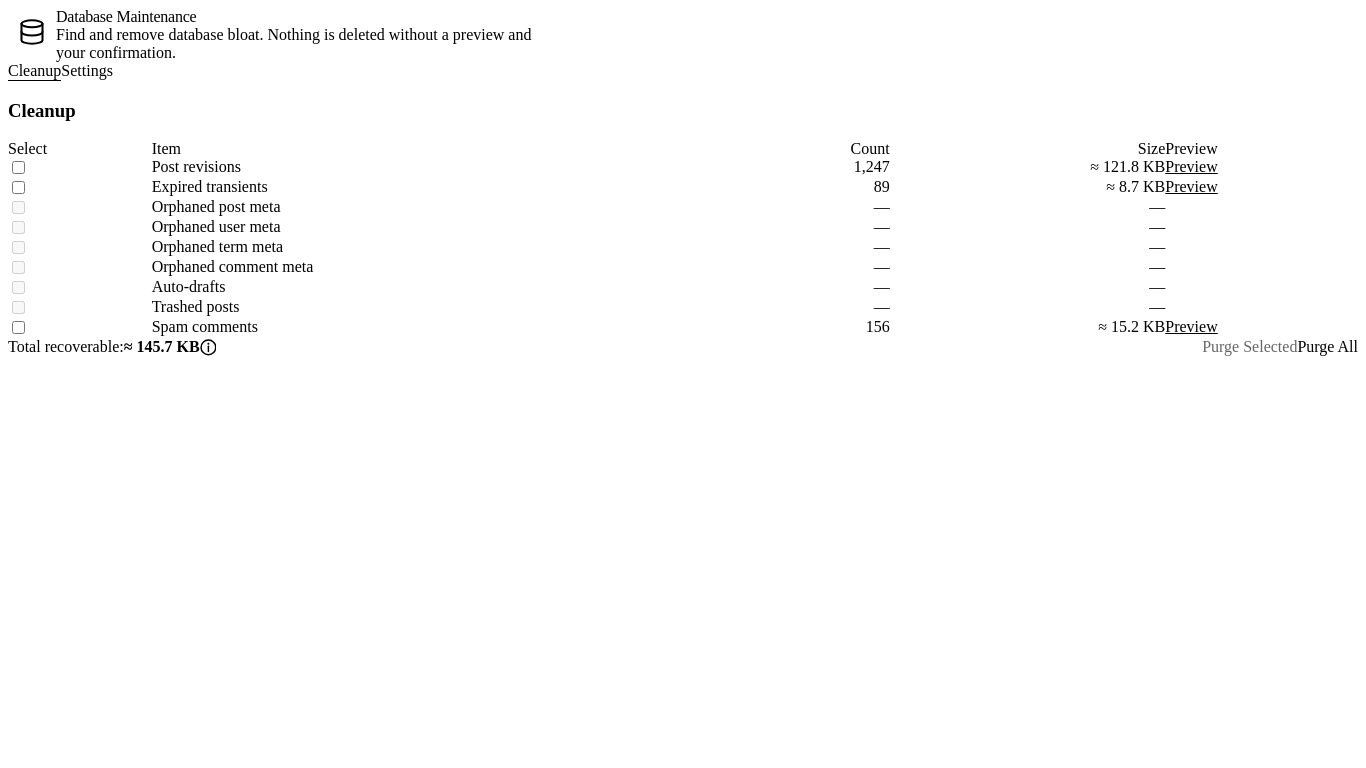
CleanupView › announces progress with human labels, not slugs
Click the checkbox labelled "Spam comments" at (18, 328), box 12,321 -> 25,334
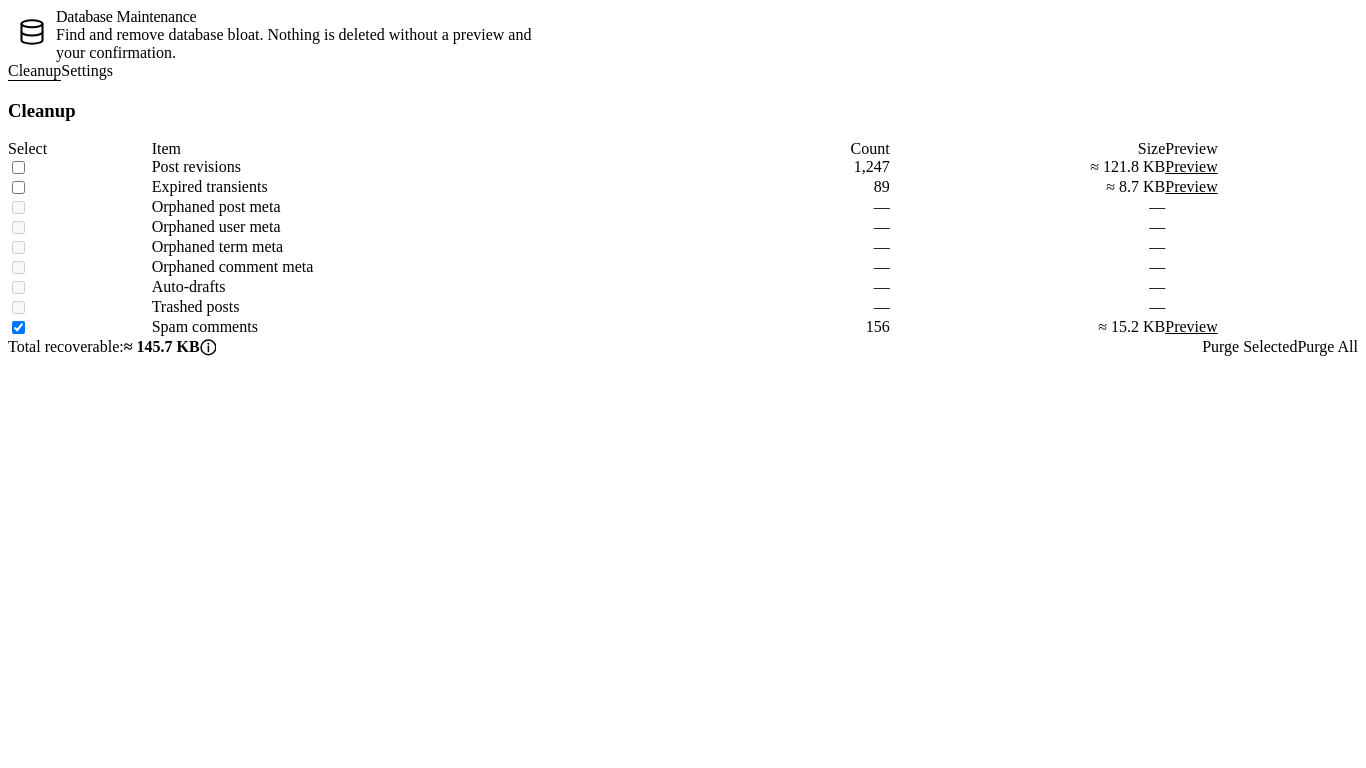
Click the button "Purge Selected" at (1250, 347), box 1202,338 -> 1297,356
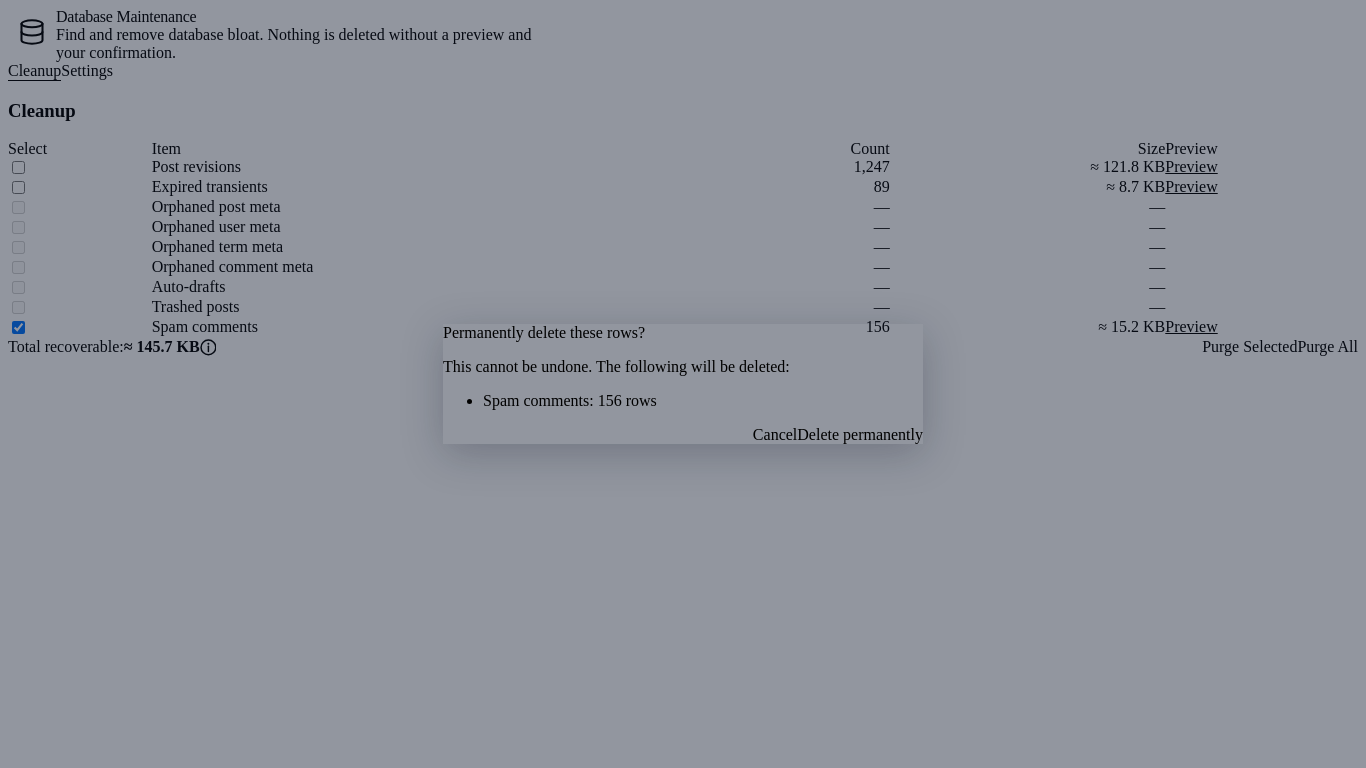
Click the button with class "fx-confirm__confirm" at (860, 435), box 797,426 -> 923,444
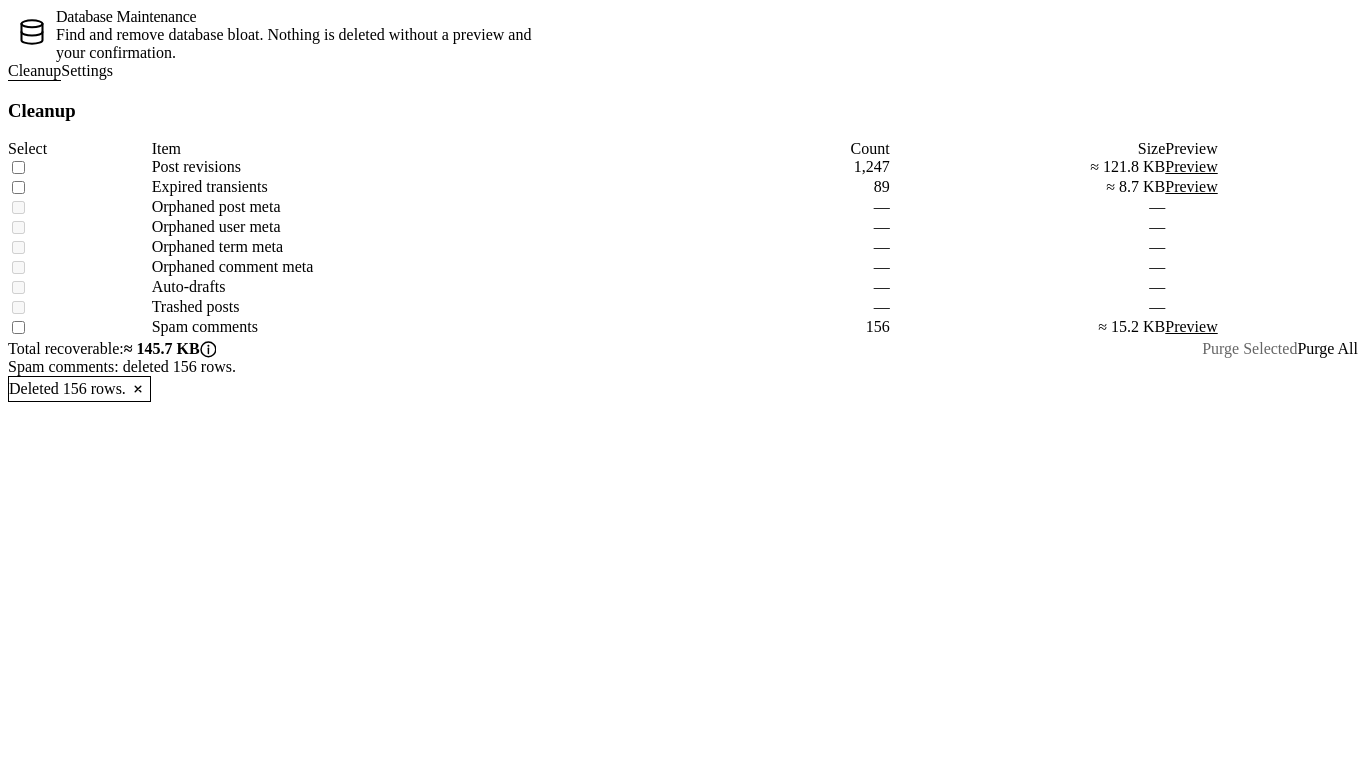
Check: the message "Spam comments: deleted 156 rows." is shown, box 8,358 -> 236,375
